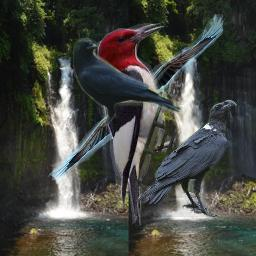Crow: (48, 14, 227, 180), (135, 98, 239, 217), (73, 37, 183, 126)
Woodpecker: (97, 23, 182, 226)
